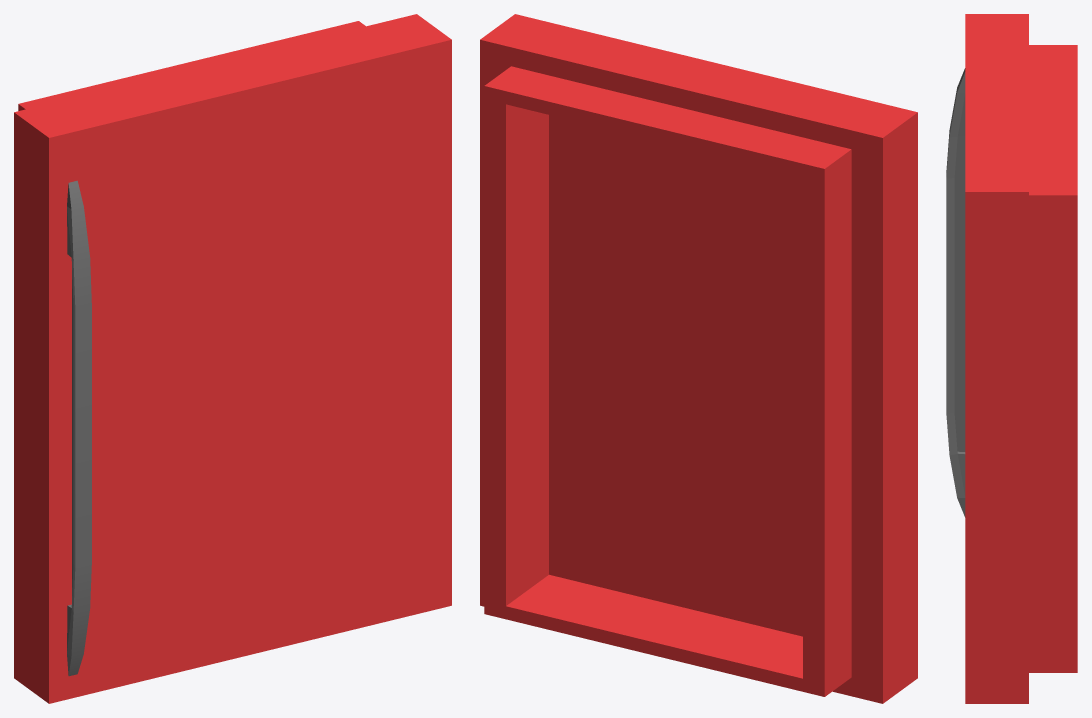
Rendered from Itr_Obj_Fridge2_Top_Door_03.FBX.
3 renders of one model, left to right at view 1: azimuth 30°, elevation 25°; view 2: azimuth 150°, elevation 25°; view 3: azimuth 270°, elevation 25°, orthographic. The views are drawn at different scales.
Parts seen in each view (by area): view 1: Itr_Obj_Fridge2_Top_Door_03; view 2: Itr_Obj_Fridge2_Top_Door_03; view 3: Itr_Obj_Fridge2_Top_Door_03.
Boxes of the visible parts, x1,y1,x2,y2 form: Itr_Obj_Fridge2_Top_Door_03: (14,14,451,703); Itr_Obj_Fridge2_Top_Door_03: (480,14,917,703); Itr_Obj_Fridge2_Top_Door_03: (946,14,1077,703).
Size of the model in its own units: 34.44 by 46.23 by 10.74.
